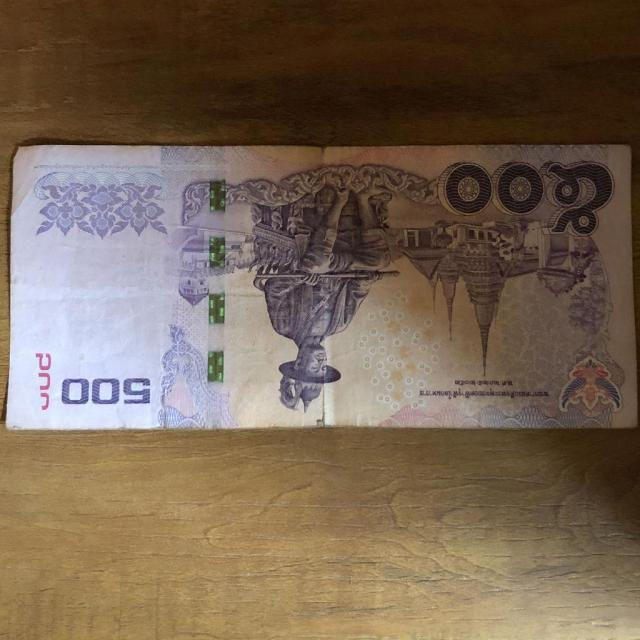THAI500: (6, 145, 636, 429)
